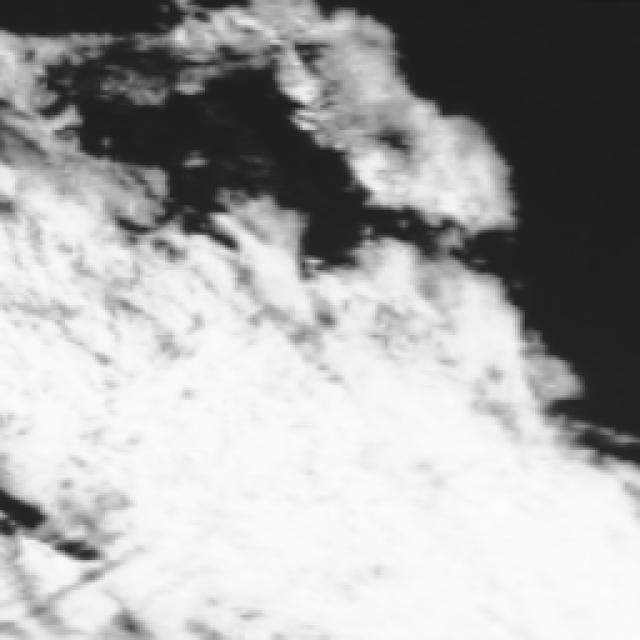CB: (281, 492, 640, 640), (172, 405, 464, 581)
